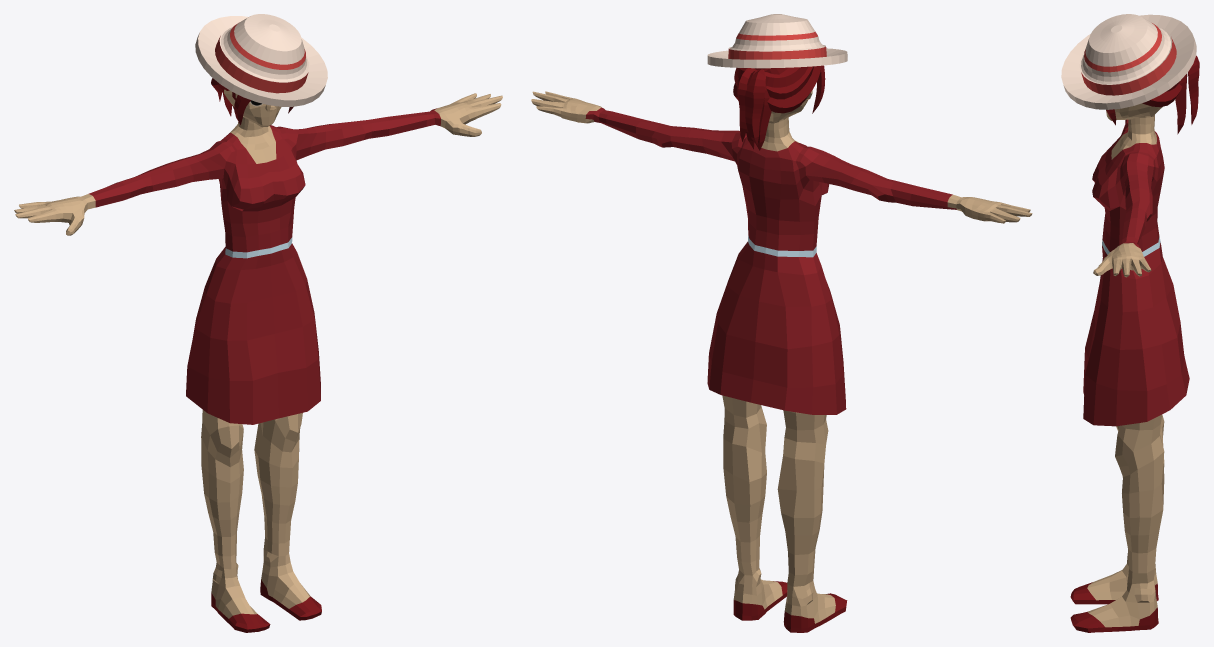
File: MysteriousWoman.fbx
3 views of the same model, side by side, from view 1: azimuth 30°, elevation 25°; view 2: azimuth 150°, elevation 25°; view 3: azimuth 270°, elevation 25° (orthographic). The views are drawn at different scales.
Parts seen in each view (by area): view 1: Formal_Legs, Formal_Body, Circle.001, Formal_Feet, Formad_Head; view 2: Formal_Legs, Formal_Body, Formad_Head, Circle.001, Formal_Feet; view 3: Formal_Legs, Circle.001, Formal_Body, Formal_Feet, Formad_Head.
Part boxes in pixels (x1,y1,x2,y2): Formal_Legs: (186,252,320,556); Formal_Body: (14,93,502,269); Circle.001: (195,14,327,106); Formal_Feet: (211,537,321,632); Formad_Head: (211,78,293,130); Formal_Legs: (707,254,846,574); Formal_Body: (531,91,1032,274); Formad_Head: (733,65,825,150); Circle.001: (707,14,847,68); Formal_Feet: (733,557,847,632); Formal_Legs: (1083,257,1189,573); Circle.001: (1061,14,1196,109); Formal_Body: (1092,119,1164,279); Formal_Feet: (1070,552,1158,632); Formad_Head: (1106,55,1199,134).
Size of the model in its own units: 165 by 189 by 39.9.
